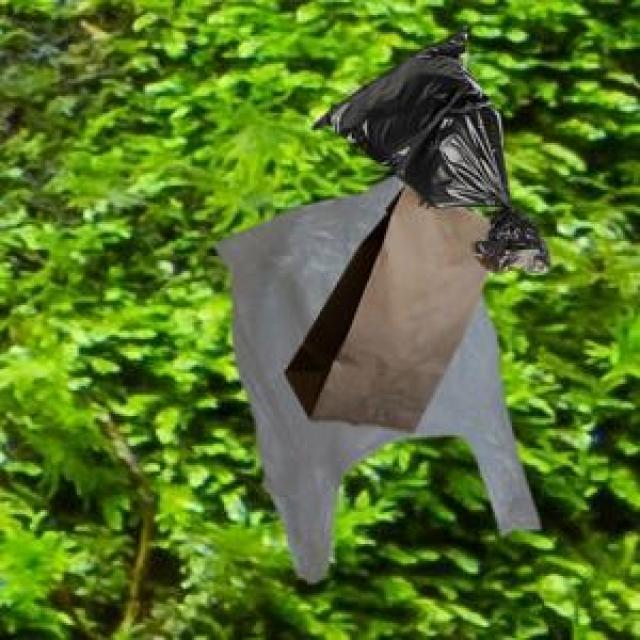miscellaneous trash: (307, 24, 546, 269)
paper: (282, 181, 489, 429)
